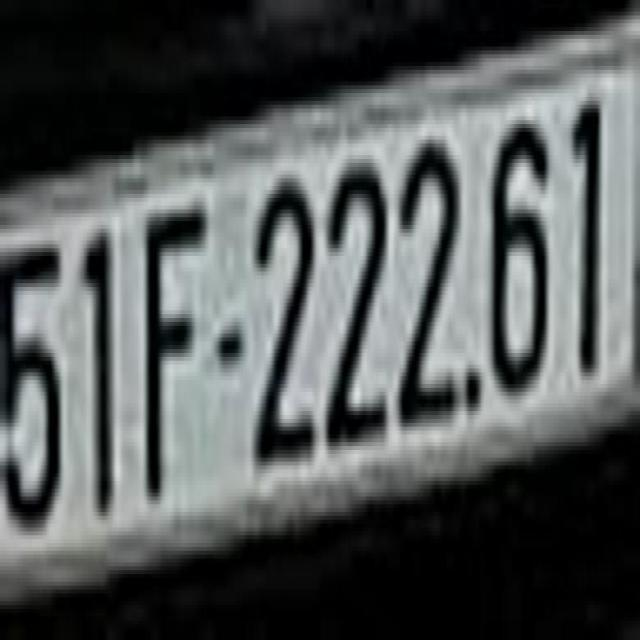1: (570, 101, 607, 384), (85, 217, 118, 520)
2: (247, 155, 320, 454), (322, 132, 389, 442), (394, 140, 460, 434)
5: (0, 229, 66, 547)
6: (482, 104, 552, 403)
F: (134, 182, 208, 493)
